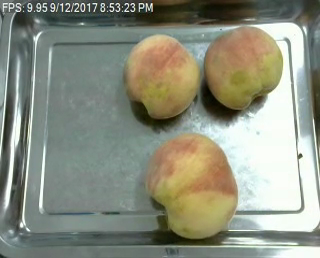Peach: (146, 131, 238, 240), (205, 24, 285, 110), (122, 33, 199, 119)
